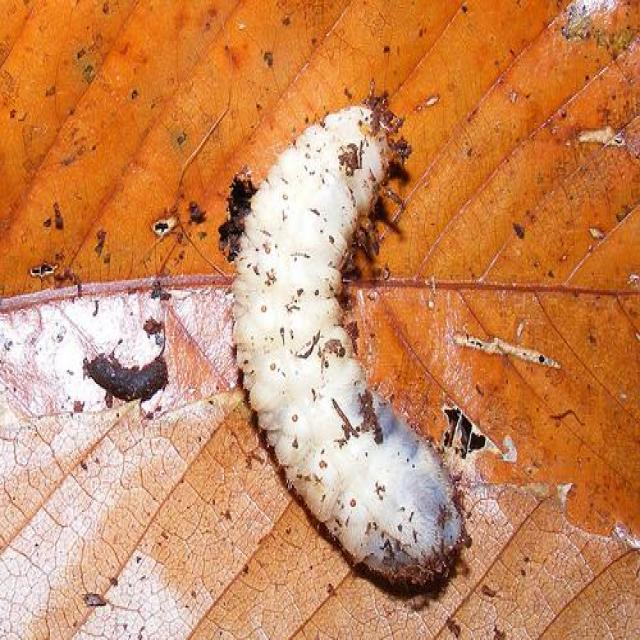Grub-Adult-: (221, 89, 470, 605)
